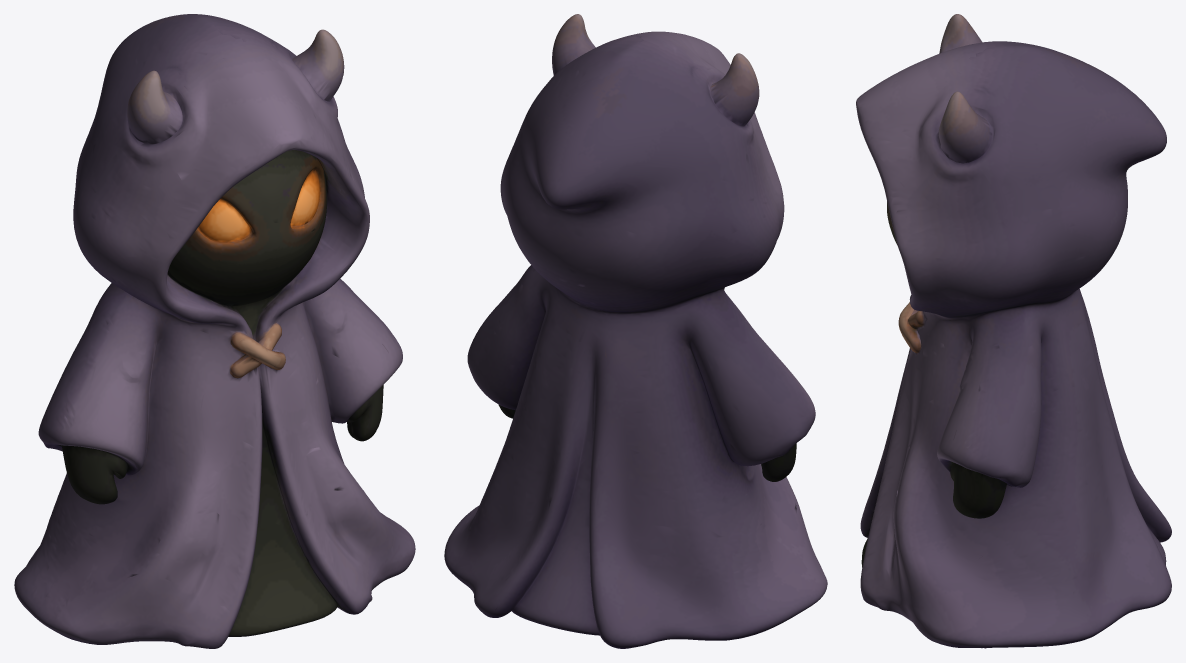
Rendered from stage_5.glb.
The picture shows the model from 3 angles, left to right: view 1: azimuth 30°, elevation 25°; view 2: azimuth 150°, elevation 25°; view 3: azimuth 270°, elevation 25°; orthographic projection. The views are drawn at different scales.
Parts seen in each view (by area): view 1: convert; view 2: convert; view 3: convert.
Part boxes in pixels (box(x1,y1,x2,y2)): convert: box(14, 14, 415, 648); convert: box(444, 14, 827, 648); convert: box(856, 14, 1171, 648).
Size of the model in its own units: 0.6879 by 1 by 0.5471.
Materials: 1 (1 with a texture image).
